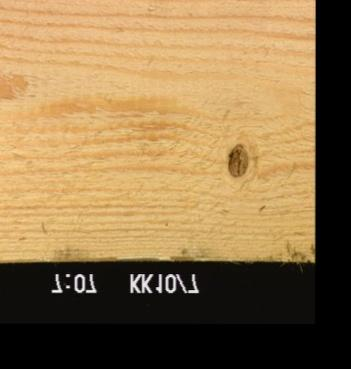wave: (98, 252, 235, 262)
